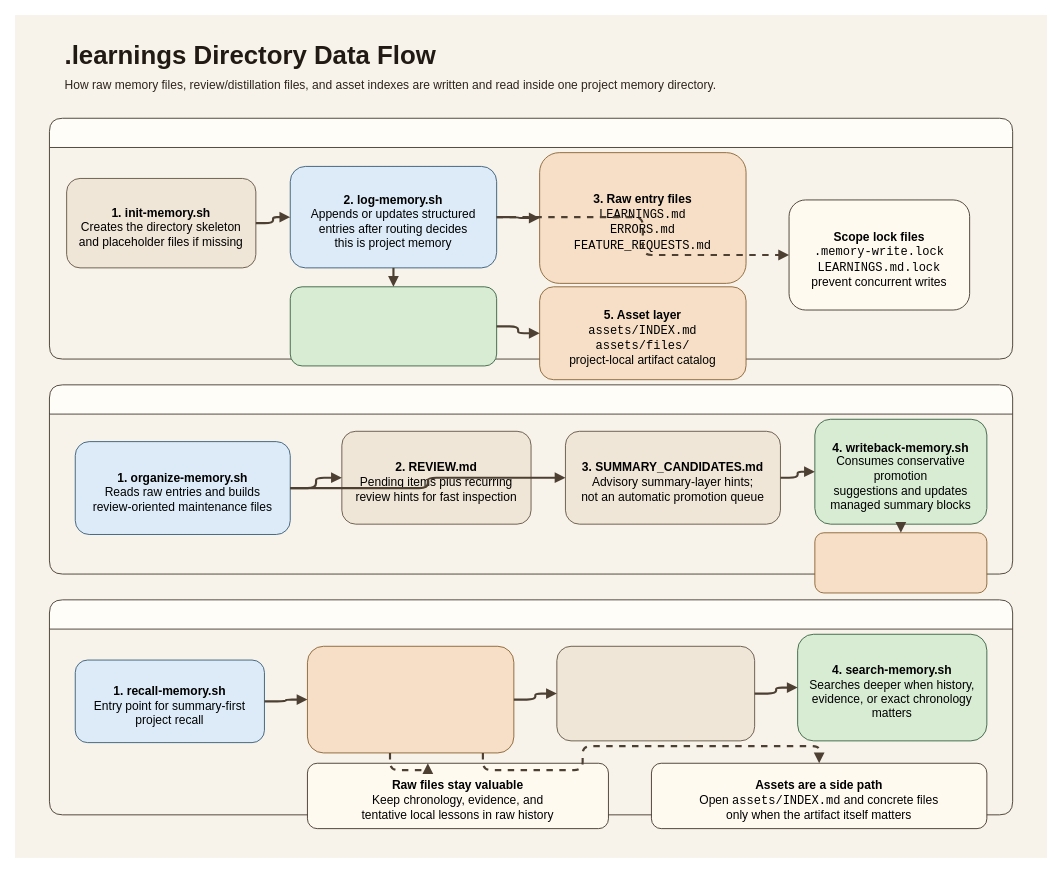
Image size: 1061x872. Some labels were removed from this diagram. Here are the shapes that lost their labels. From the top down, the box of each, then its label:
(49, 117, 1013, 359): A. Capture and Storage
(289, 286, 497, 366): 4. log-asset.sh Indexes durable files worth rediscovering later
(49, 384, 1013, 574): B. Distillation and Promotion
(814, 532, 987, 593): 5. SUMMARY.md Top-layer distilled memory for default recall
(307, 645, 514, 753): 2. Default order SUMMARY.md REVIEW.md then deeper files only if needed
(49, 599, 1013, 815): C. Recall Path
(556, 645, 755, 741): 3. review-memory.sh Shows summary highlights and lightweight review hints
